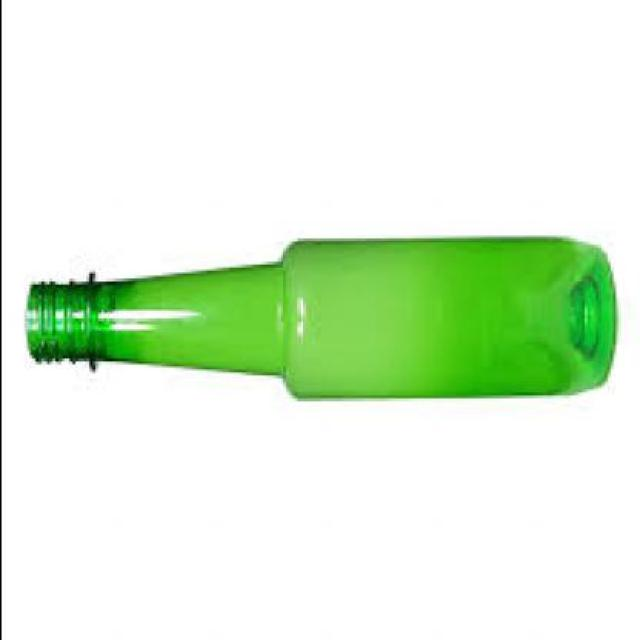GLASS: (23, 238, 611, 402)
